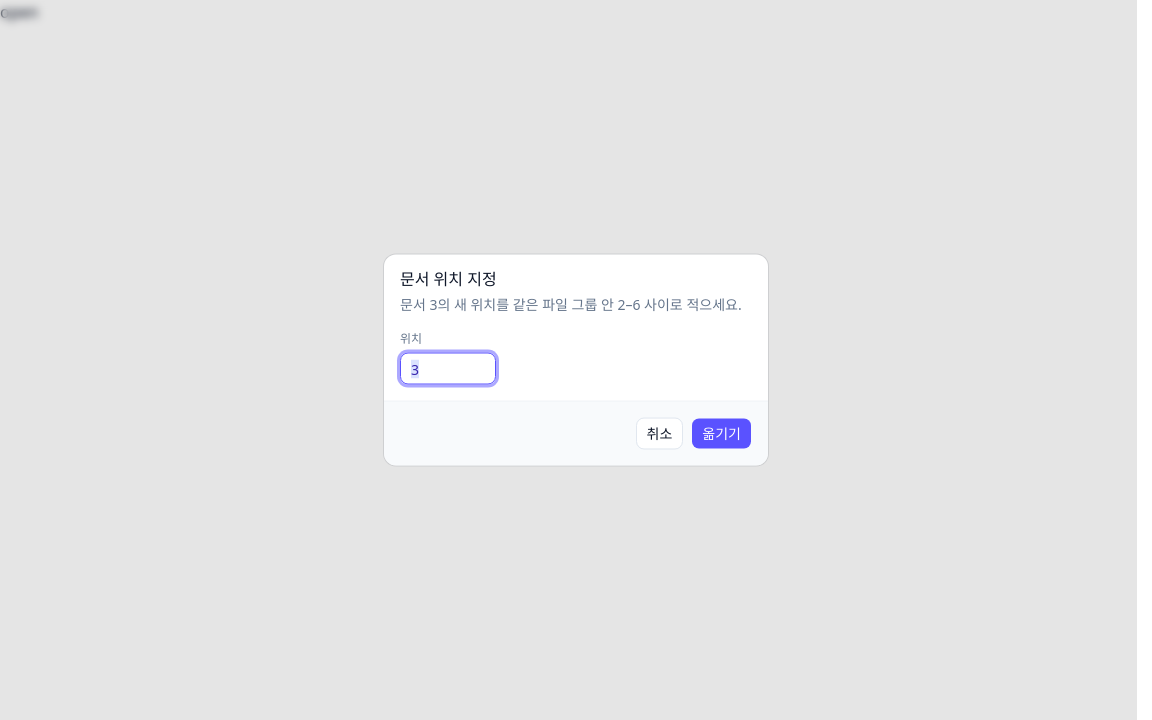
Test: DocumentPositionDialog 검사 › 숫자 아님 이면 오류를 보이고 닫지 않는다
Step 1. Replace the text in the field with test id "job-review-document-position-dialog-input" with "abc" → (448, 368), box [400,352,496,384]
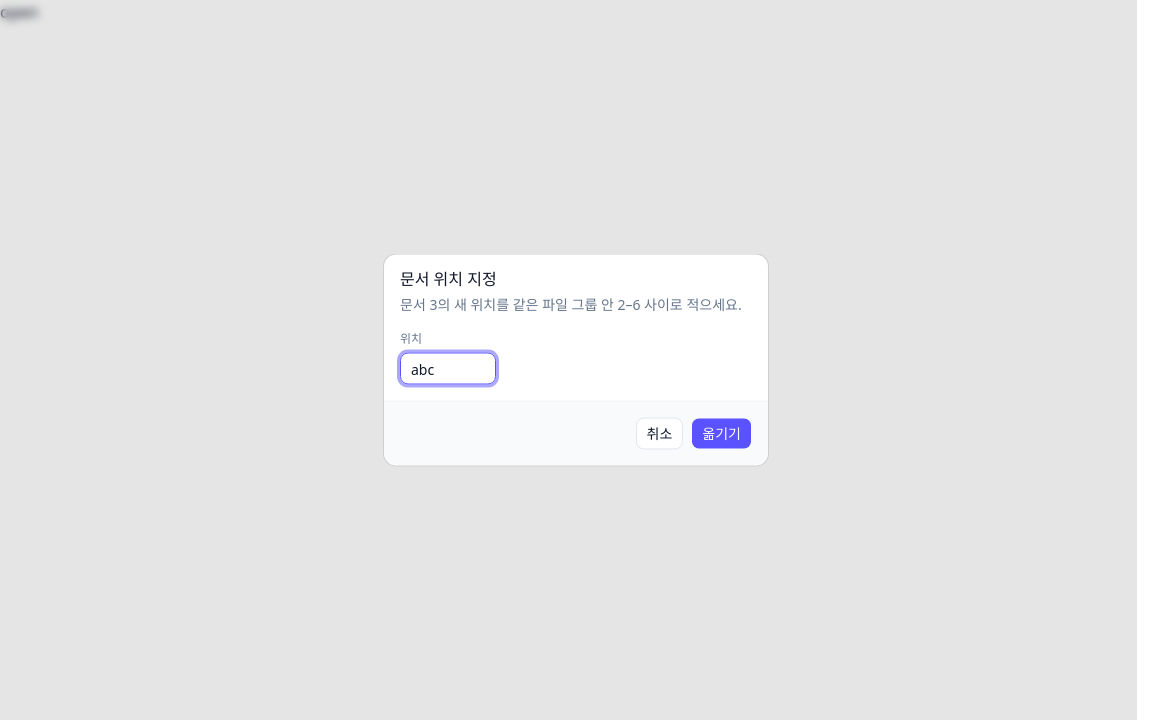
Step 2. Click the button with test id "job-review-document-position-dialog-button-move" → (722, 434), box [691,418,752,450]
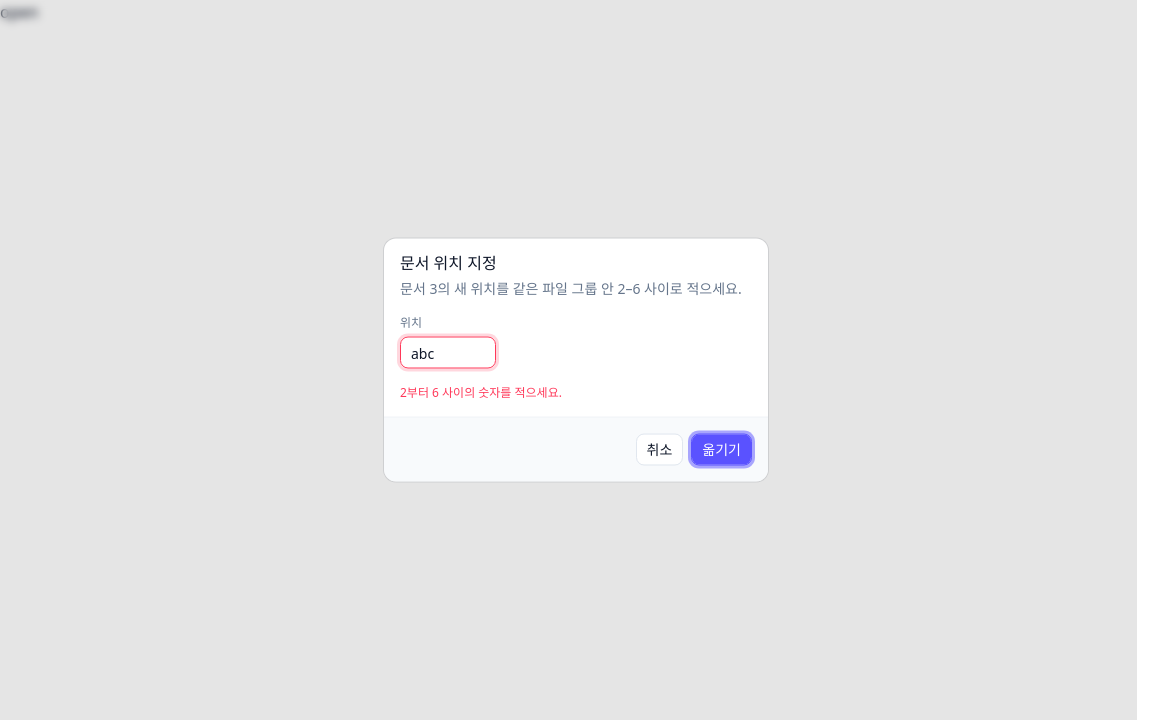
Expected: the dialog with test id "job-review-document-position-dialog" is shown, [384,238,768,482]
Now the message reads "2부터 6 사이의 숫자를 적으세요.", box [400,384,562,400]
